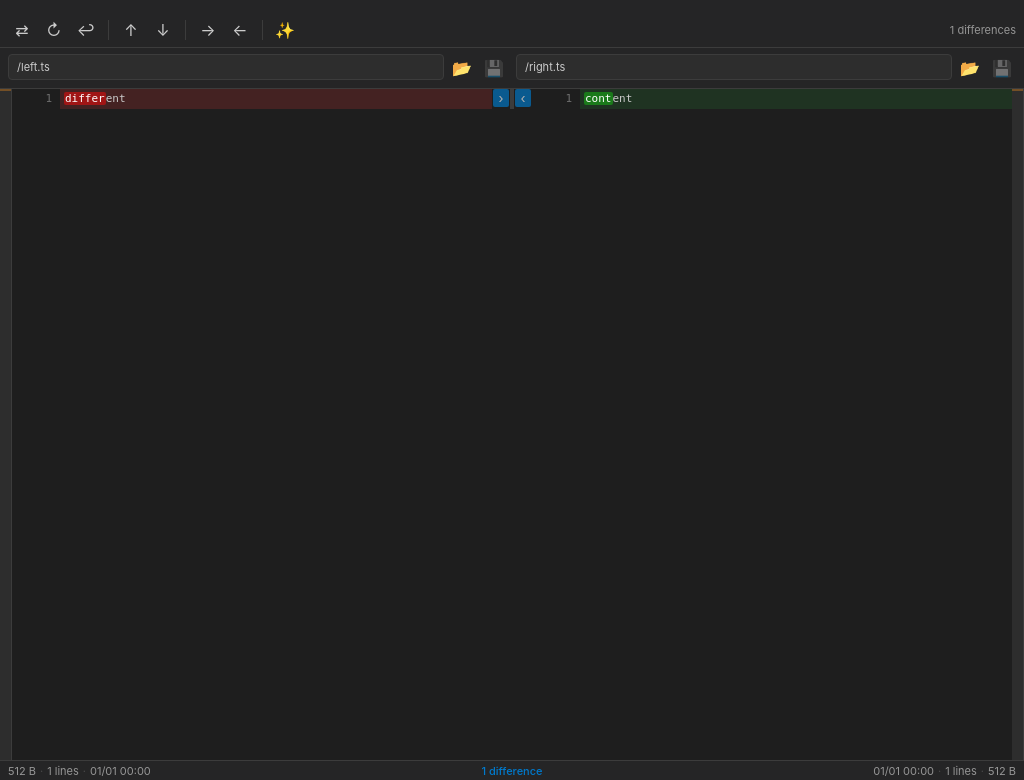
Test: Inline editing — dirty indicator (feature 4.5) › dirty indicator appears after copy-all-left-to-right
Expected: the element with class "fd-diff-modified" showing "1 different" is shown, [12,89,492,109]
Click the button "→": x=208, y=30 [194,16,222,44]
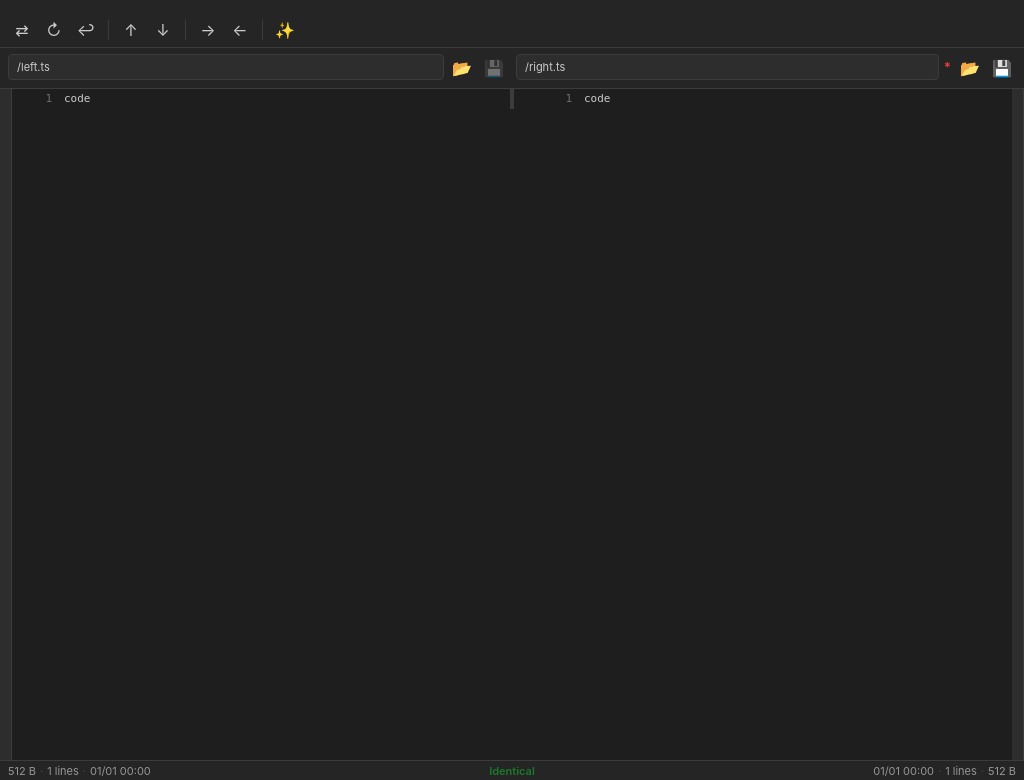
Now the text "*" is shown, box [944,59,951,75]
